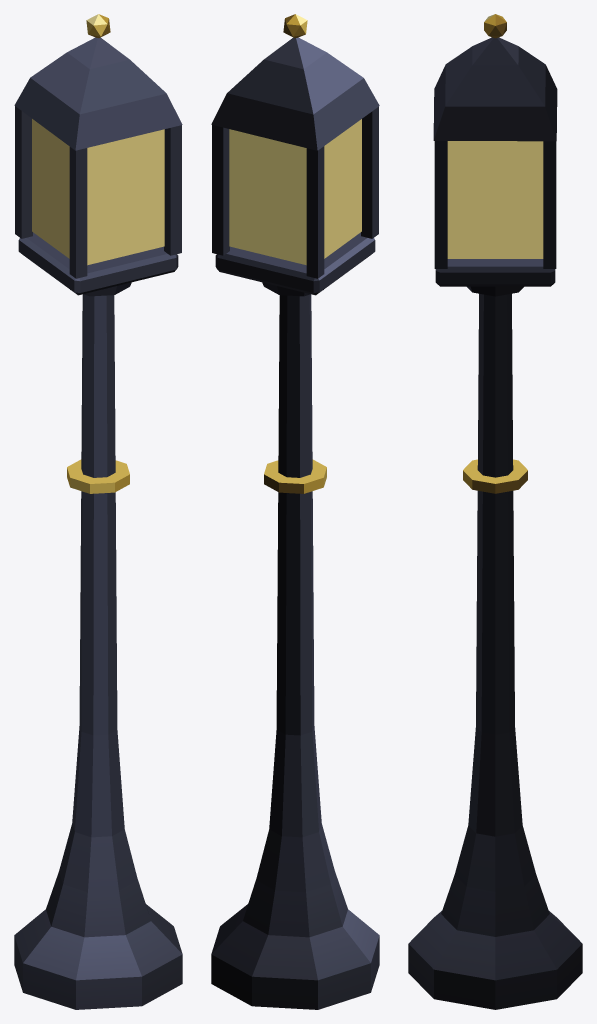
The model's file is lamp_post.glb.
3 renders of one model, left to right at view 1: azimuth 30°, elevation 25°; view 2: azimuth 150°, elevation 25°; view 3: azimuth 270°, elevation 25°, orthographic.
Visible parts, largest first — view 1: lamp_post; view 2: lamp_post; view 3: lamp_post.
Part boxes in pixels (<box>): lamp_post: <box>14,14,182,1009</box>; lamp_post: <box>211,14,379,1009</box>; lamp_post: <box>408,14,582,1009</box>.
Bounding box in the file's own units: 0.32 × 1.95 × 0.32.
4 materials, 4 textured.
